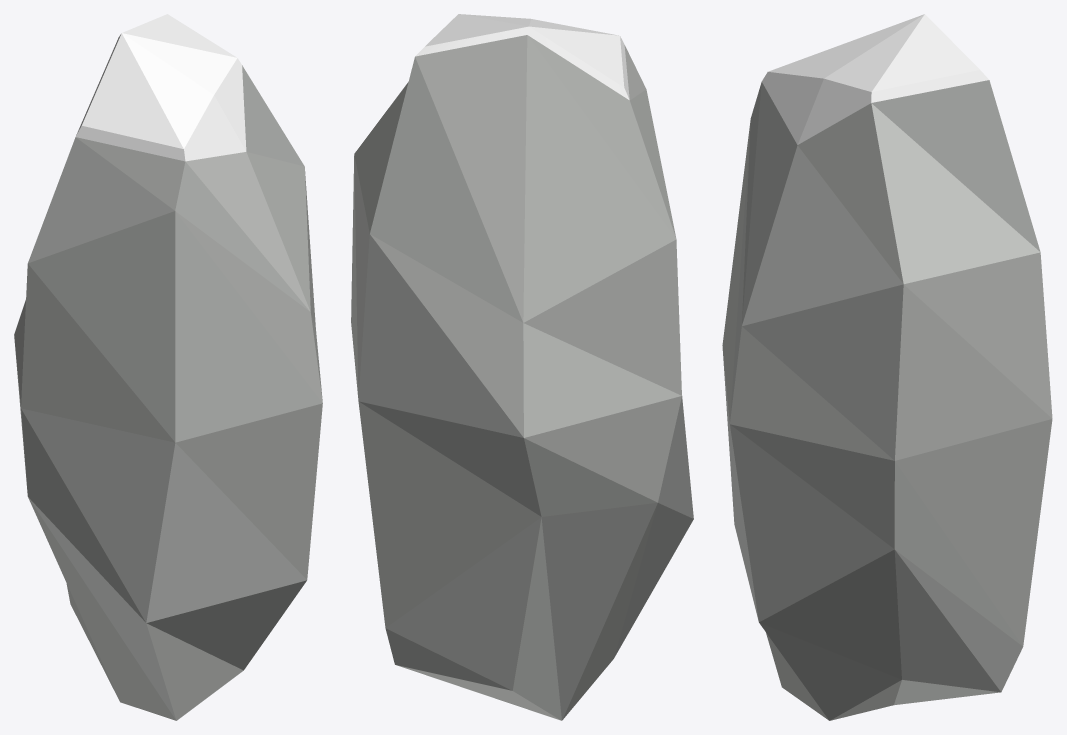
File: Rock_Light_Snow_2.fbx
The picture shows the model from 3 angles, left to right: view 1: azimuth 30°, elevation 25°; view 2: azimuth 150°, elevation 25°; view 3: azimuth 270°, elevation 25°; orthographic projection. The views are drawn at different scales.
Visible parts, largest first — view 1: Rock_Light_Snow_2; view 2: Rock_Light_Snow_2; view 3: Rock_Light_Snow_2.
Part boxes in pixels (x1=…): Rock_Light_Snow_2: x1=14, y1=14, x2=322, y2=720; Rock_Light_Snow_2: x1=351, y1=14, x2=693, y2=720; Rock_Light_Snow_2: x1=722, y1=14, x2=1052, y2=720.
Bounding box in the file's own units: 2 × 4.14 × 1.77.
